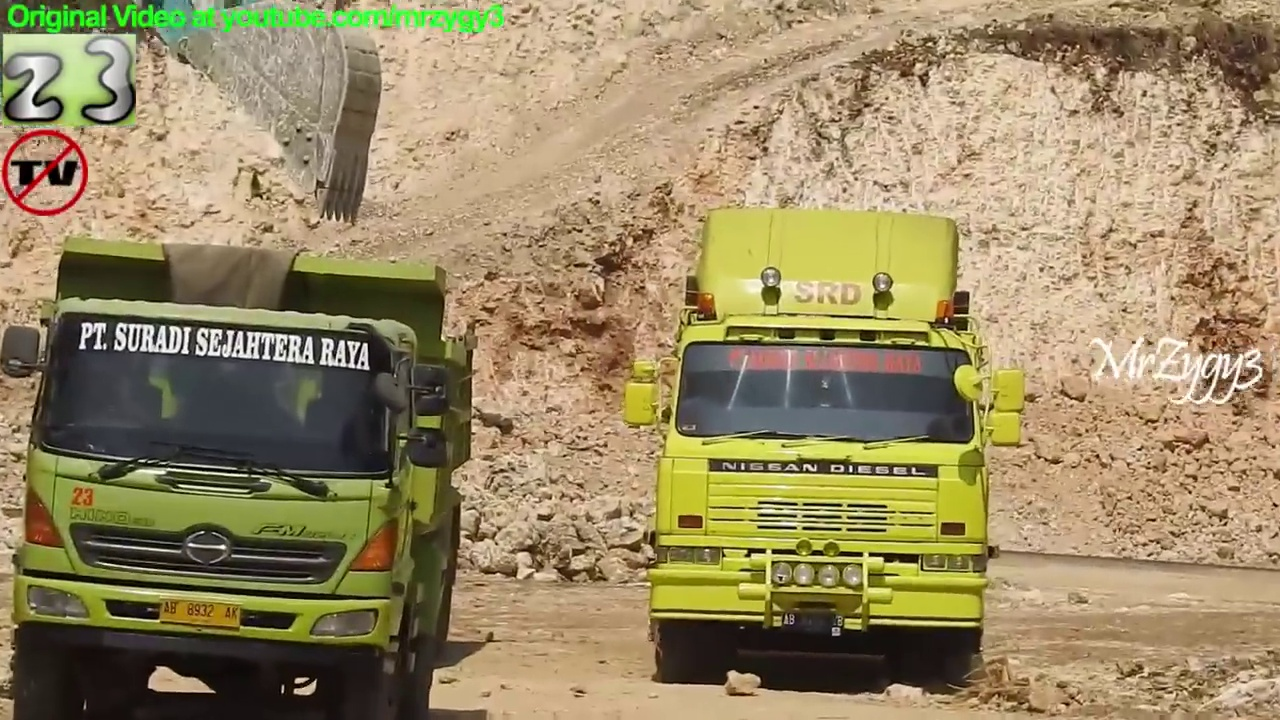excavator: (1, 1, 389, 231)
truck: (1, 230, 482, 720), (620, 199, 1031, 685)
